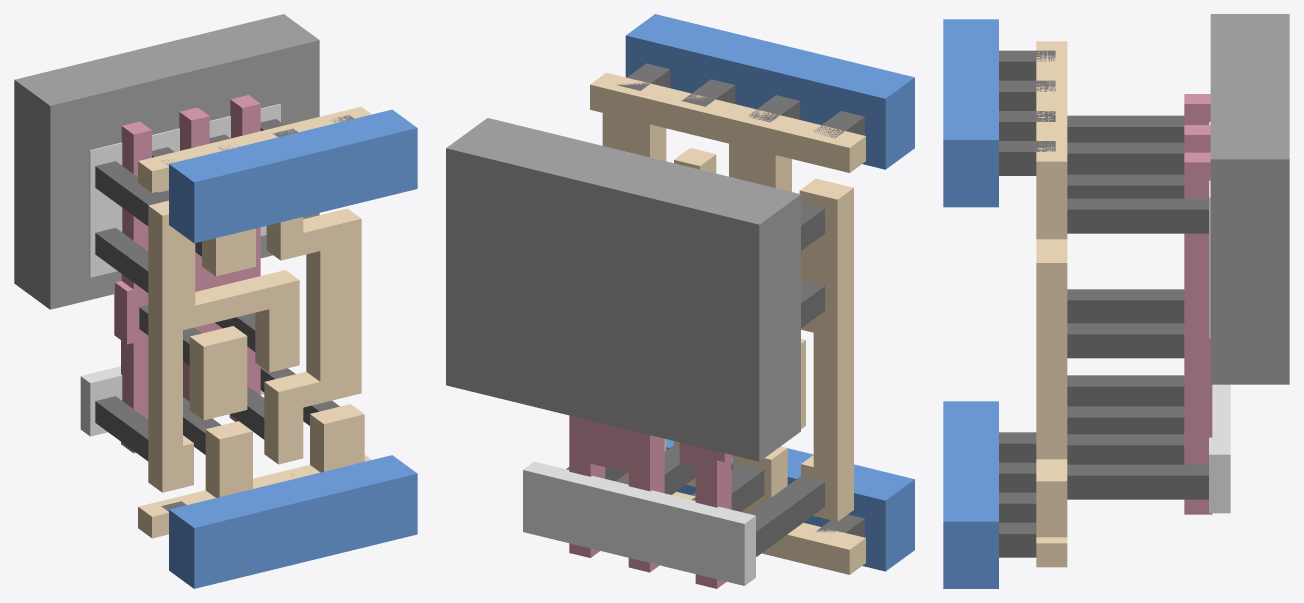
The model's file is sky130_fd_sc_hd__clkbuf_2.gds.gltf.
3 renders of one model, left to right at view 1: azimuth 30°, elevation 25°; view 2: azimuth 150°, elevation 25°; view 3: azimuth 270°, elevation 25°, orthographic. The views are drawn at different scales.
Parts seen in each view (by area): view 1: sky130_fd_sc_hd__clkbuf_2_li1, sky130_fd_sc_hd__clkbuf_2_met1, sky130_fd_sc_hd__clkbuf_2_nwell, sky130_fd_sc_hd__clkbuf_2_licon, sky130_fd_sc_hd__clkbuf_2_poly, sky130_fd_sc_hd__clkbuf_2_diff; view 2: sky130_fd_sc_hd__clkbuf_2_nwell, sky130_fd_sc_hd__clkbuf_2_li1, sky130_fd_sc_hd__clkbuf_2_met1, sky130_fd_sc_hd__clkbuf_2_diff, sky130_fd_sc_hd__clkbuf_2_poly, sky130_fd_sc_hd__clkbuf_2_licon, sky130_fd_sc_hd__clkbuf_2_mcon; view 3: sky130_fd_sc_hd__clkbuf_2_licon, sky130_fd_sc_hd__clkbuf_2_nwell, sky130_fd_sc_hd__clkbuf_2_met1, sky130_fd_sc_hd__clkbuf_2_li1, sky130_fd_sc_hd__clkbuf_2_mcon, sky130_fd_sc_hd__clkbuf_2_poly, sky130_fd_sc_hd__clkbuf_2_diff.
Part boxes in pixels (x1,y1,x2,y2): sky130_fd_sc_hd__clkbuf_2_li1: (138, 106, 371, 538); sky130_fd_sc_hd__clkbuf_2_met1: (169, 109, 417, 588); sky130_fd_sc_hd__clkbuf_2_nwell: (14, 14, 319, 309); sky130_fd_sc_hd__clkbuf_2_licon: (95, 119, 339, 461); sky130_fd_sc_hd__clkbuf_2_poly: (114, 95, 260, 453); sky130_fd_sc_hd__clkbuf_2_diff: (80, 104, 280, 436); sky130_fd_sc_hd__clkbuf_2_nwell: (446, 118, 800, 461); sky130_fd_sc_hd__clkbuf_2_li1: (590, 72, 865, 574); sky130_fd_sc_hd__clkbuf_2_met1: (625, 14, 914, 571); sky130_fd_sc_hd__clkbuf_2_diff: (523, 461, 755, 585); sky130_fd_sc_hd__clkbuf_2_poly: (569, 415, 733, 588); sky130_fd_sc_hd__clkbuf_2_licon: (566, 202, 824, 556); sky130_fd_sc_hd__clkbuf_2_mcon: (617, 63, 864, 537); sky130_fd_sc_hd__clkbuf_2_licon: (1067, 115, 1208, 499); sky130_fd_sc_hd__clkbuf_2_nwell: (1210, 14, 1289, 384); sky130_fd_sc_hd__clkbuf_2_met1: (943, 19, 998, 588); sky130_fd_sc_hd__clkbuf_2_li1: (1036, 41, 1067, 567); sky130_fd_sc_hd__clkbuf_2_mcon: (999, 50, 1055, 557); sky130_fd_sc_hd__clkbuf_2_poly: (1184, 94, 1212, 514); sky130_fd_sc_hd__clkbuf_2_diff: (1209, 122, 1230, 513).
Bounding box in the file's own units: 2.22 × 3.2 × 2.24.
